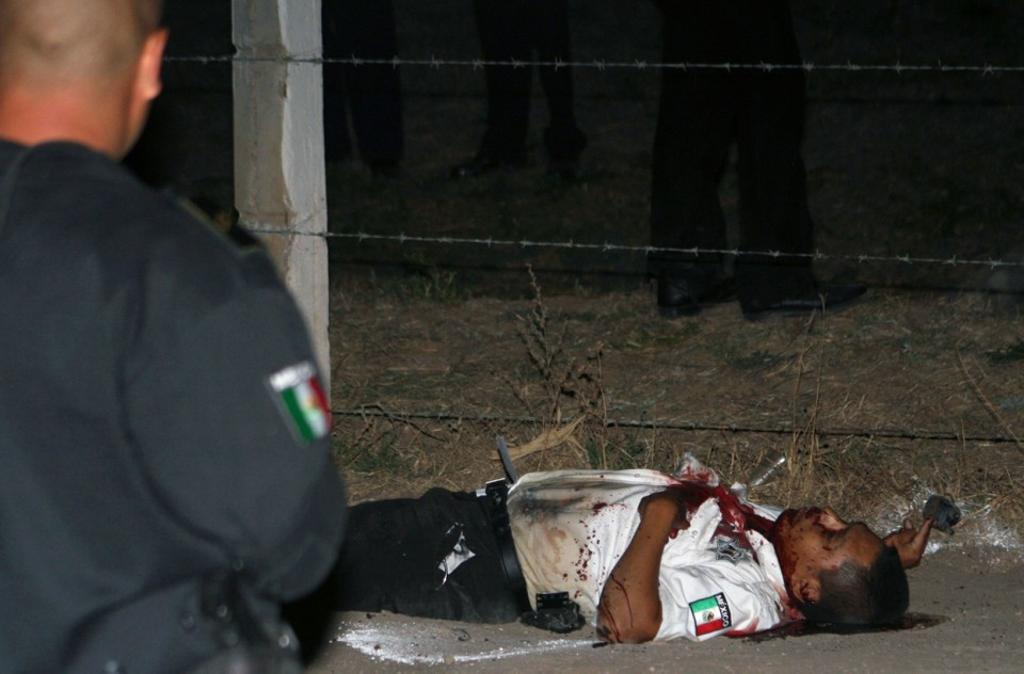face: (773, 509, 871, 571)
